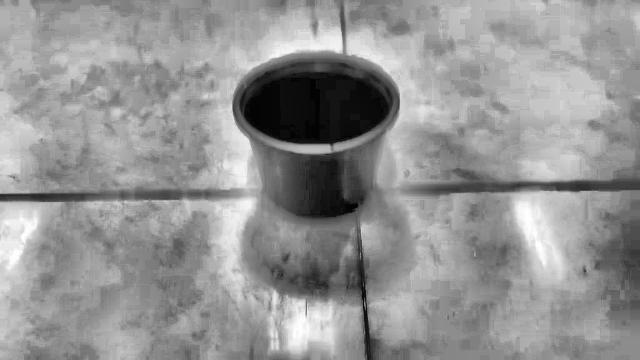pot: (232, 55, 399, 218)
